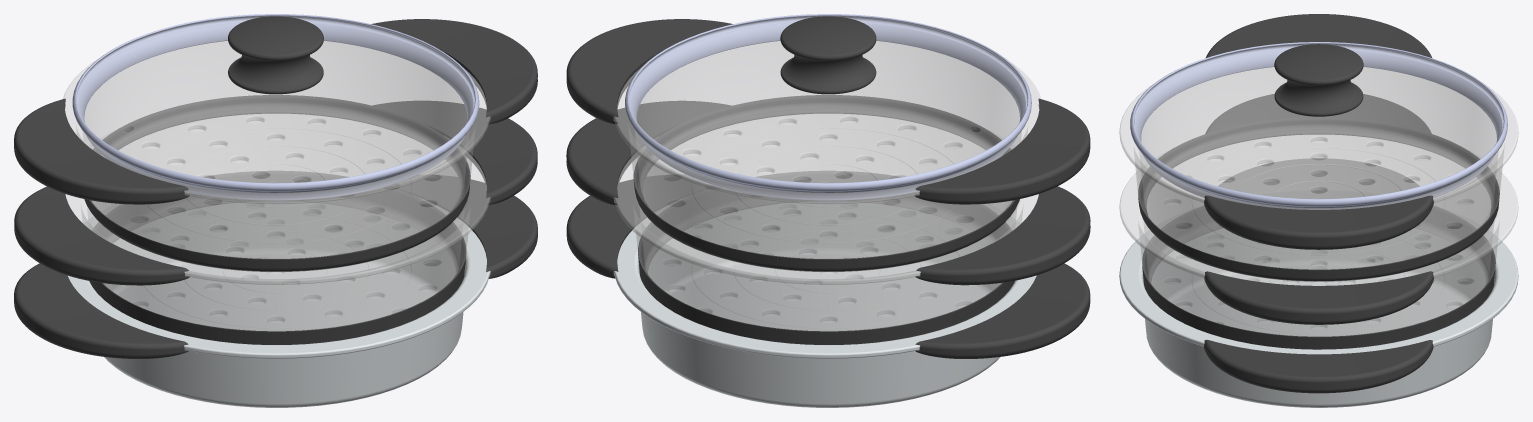
File: ikuyo.glb
The picture shows the model from 3 angles, left to right: view 1: azimuth 30°, elevation 25°; view 2: azimuth 150°, elevation 25°; view 3: azimuth 270°, elevation 25°; orthographic projection. The views are drawn at different scales.
Parts seen in each view (by area): view 1: ExplodeviewLargePlasticBasketGasket-1, ExplodeviewSteelWaterSection-1, ExplodeviewMediumPlasticBasketGasket-1, ExplodeviewGlass-1, ExplodeviewMetalLidRing-1, ExplodeviewHandlePot-6, ExplodeviewHandlePot-8, ExplodeviewHandlePot-5, ExplodeviewHandle-2, ExplodeviewHandlePot-7, ExplodeviewHandlePot-10, ExplodeviewHandlePot-9; view 2: ExplodeviewLargePlasticBasketGasket-1, ExplodeviewSteelWaterSection-1, ExplodeviewMediumPlasticBasketGasket-1, ExplodeviewGlass-1, ExplodeviewMetalLidRing-1, ExplodeviewHandlePot-6, ExplodeviewHandlePot-8, ExplodeviewHandlePot-5, ExplodeviewHandle-2, ExplodeviewHandlePot-7, ExplodeviewHandlePot-10; view 3: ExplodeviewLargePlasticBasketGasket-1, ExplodeviewGlass-1, ExplodeviewMediumPlasticBasketGasket-1, ExplodeviewSteelWaterSection-1, ExplodeviewMetalLidRing-1, ExplodeviewHandlePot-5, ExplodeviewHandlePot-7, ExplodeviewHandle-2, ExplodeviewHandlePot-8, ExplodeviewHandlePot-6, ExplodeviewHandlePot-9.
Boxes of the visible parts, x1,y1,x2,y2 form: ExplodeviewLargePlasticBasketGasket-1: (14,19,537,271); ExplodeviewSteelWaterSection-1: (68,200,490,407); ExplodeviewMediumPlasticBasketGasket-1: (65,114,490,344); ExplodeviewGlass-1: (77,17,474,182); ExplodeviewMetalLidRing-1: (72,14,479,200); ExplodeviewHandlePot-6: (14,186,189,285); ExplodeviewHandlePot-8: (14,263,188,358); ExplodeviewHandlePot-5: (372,100,537,204); ExplodeviewHandle-2: (228,16,323,94); ExplodeviewHandlePot-7: (393,175,537,278); ExplodeviewHandlePot-10: (14,101,189,204); ExplodeviewHandlePot-9: (453,58,537,124); ExplodeviewLargePlasticBasketGasket-1: (566,19,1090,271); ExplodeviewSteelWaterSection-1: (613,200,1036,407); ExplodeviewMediumPlasticBasketGasket-1: (614,114,1038,344); ExplodeviewGlass-1: (630,17,1026,182); ExplodeviewMetalLidRing-1: (625,14,1031,200); ExplodeviewHandlePot-6: (915,186,1090,285); ExplodeviewHandlePot-8: (915,263,1090,358); ExplodeviewHandlePot-5: (566,100,731,204); ExplodeviewHandle-2: (780,16,876,94); ExplodeviewHandlePot-7: (566,175,710,278); ExplodeviewHandlePot-10: (915,101,1090,204); ExplodeviewLargePlasticBasketGasket-1: (1119,14,1518,281); ExplodeviewGlass-1: (1135,45,1503,198); ExplodeviewMediumPlasticBasketGasket-1: (1119,135,1518,349); ExplodeviewSteelWaterSection-1: (1119,209,1518,407); ExplodeviewMetalLidRing-1: (1130,42,1507,209); ExplodeviewHandlePot-5: (1204,271,1433,324); ExplodeviewHandlePot-7: (1204,340,1433,393); ExplodeviewHandle-2: (1274,44,1363,116); ExplodeviewHandlePot-8: (1219,158,1419,192); ExplodeviewHandlePot-6: (1205,94,1431,133); ExplodeviewHandlePot-9: (1203,197,1433,249).
Bounding box in the file's own units: 0.2906 × 0.1706 × 0.221.
